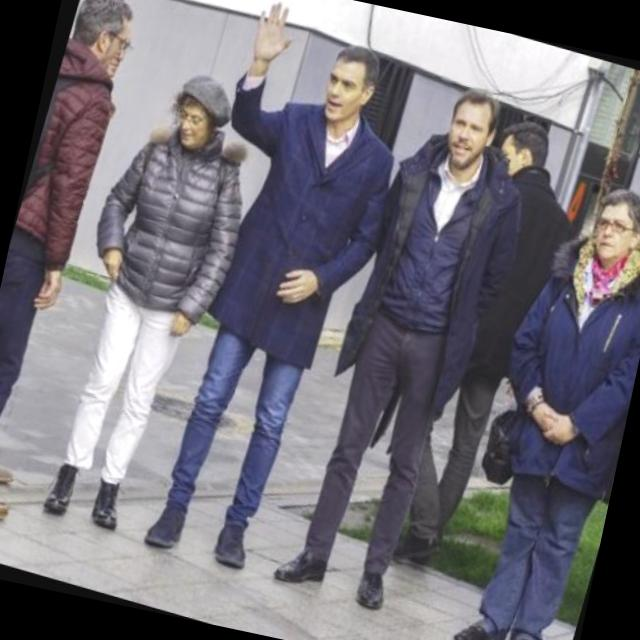person: (90, 0, 426, 595), (268, 51, 551, 633), (7, 38, 270, 547), (362, 92, 586, 597), (425, 162, 640, 640), (0, 0, 153, 567)
